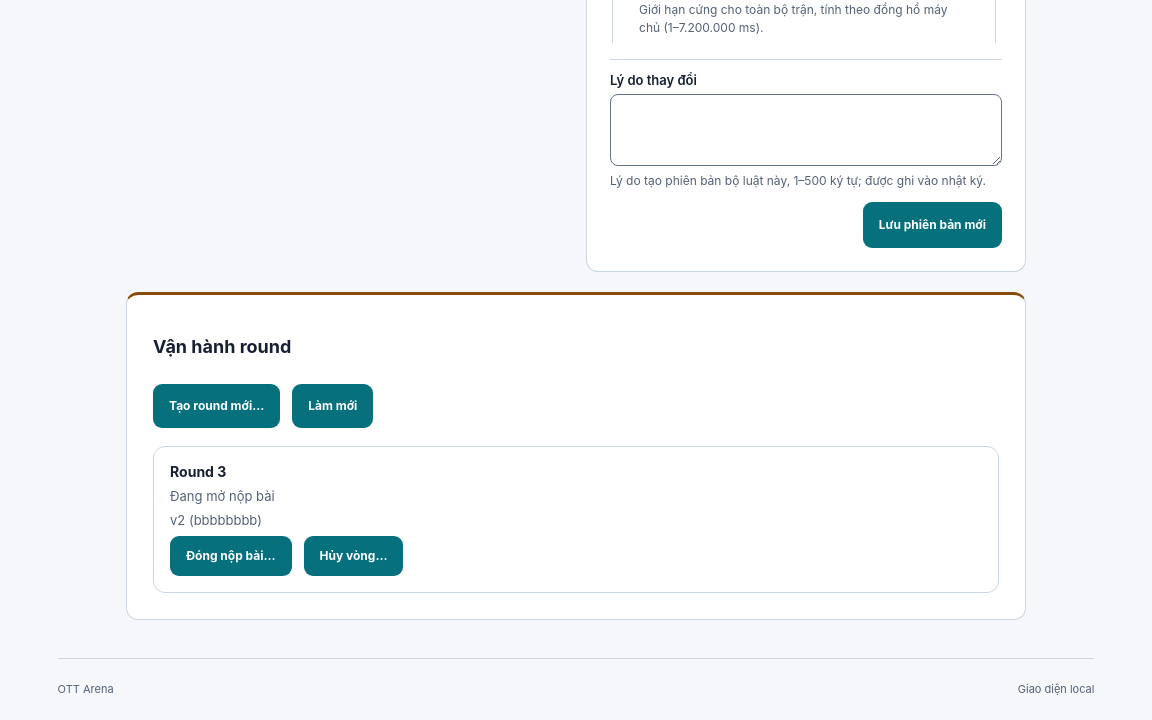
Test case: RoundAdmin cancel round (loop 101) › explains ROUND_NOT_CANCELLABLE and keeps the dialog open
(page scrolled)
expect the heading "Round 3" is shown: met, box [170,462,226,480]
Click the button "Hủy vòng…". click: [353, 556]
box: [304,536,403,576]
(page scrolled)
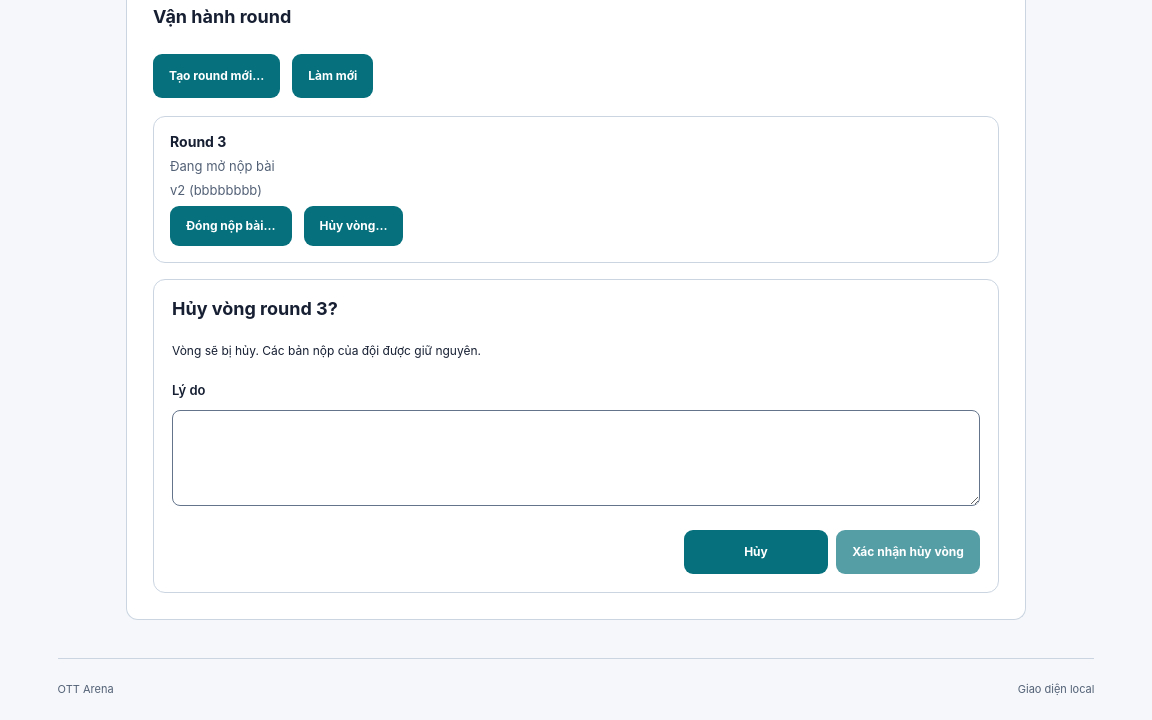
Type "quá muộn" into the text box labelled "Lý do". click: [576, 458]
box: [172,410,980,506]
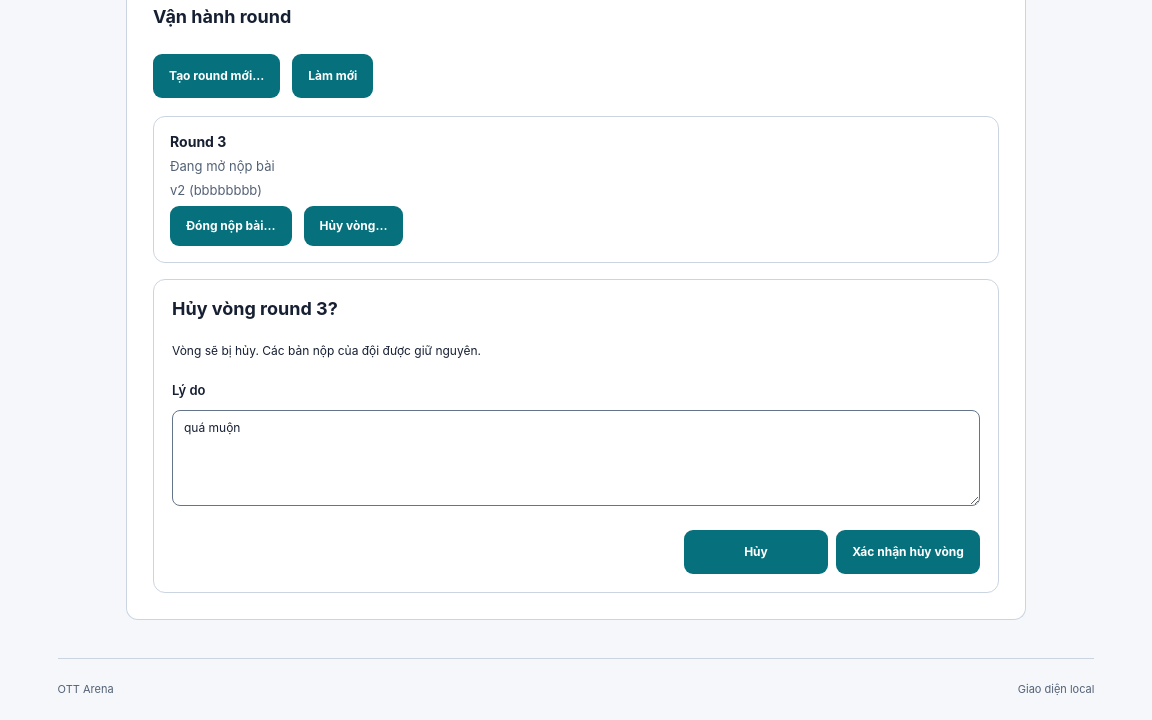
Click the button "Xác nhận hủy vòng". click: [908, 552]
box: [836,530,980,574]
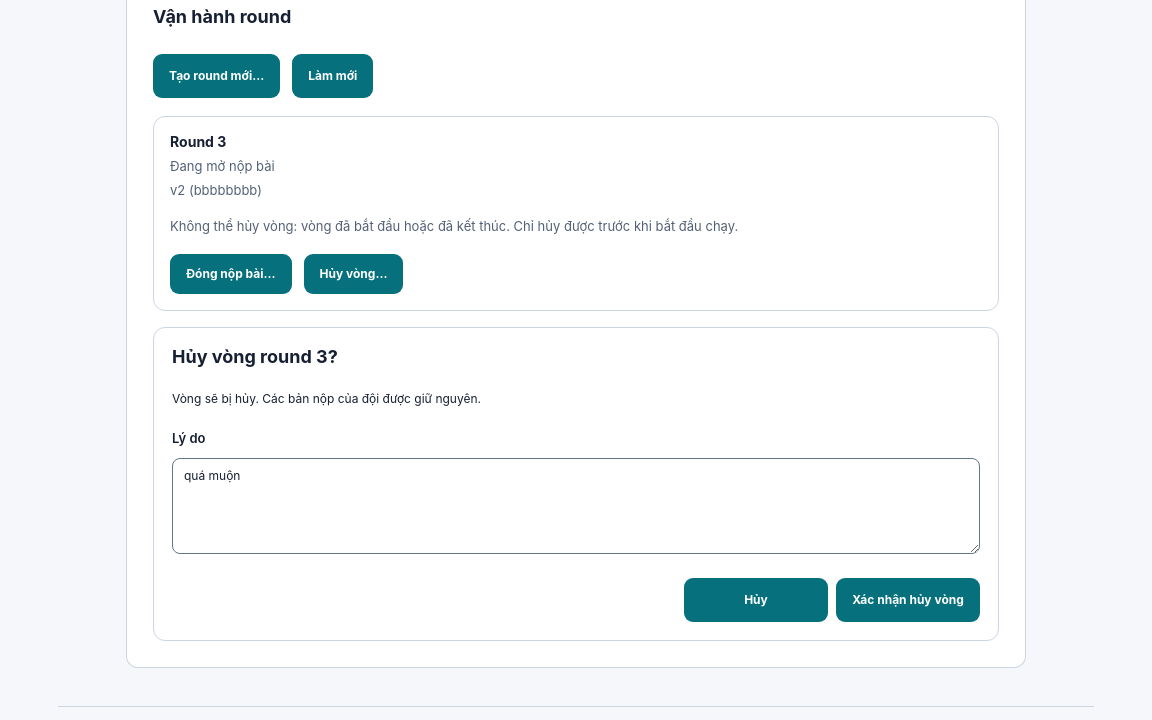
expect the form named "Xác nhận hủy vòng" is shown: met, box [153,326,999,640]
expect the message shows "Không thể hủy vòng: vòng đã bắt đầu hoặc đã kết thúc.": met, box [170,218,738,234]
